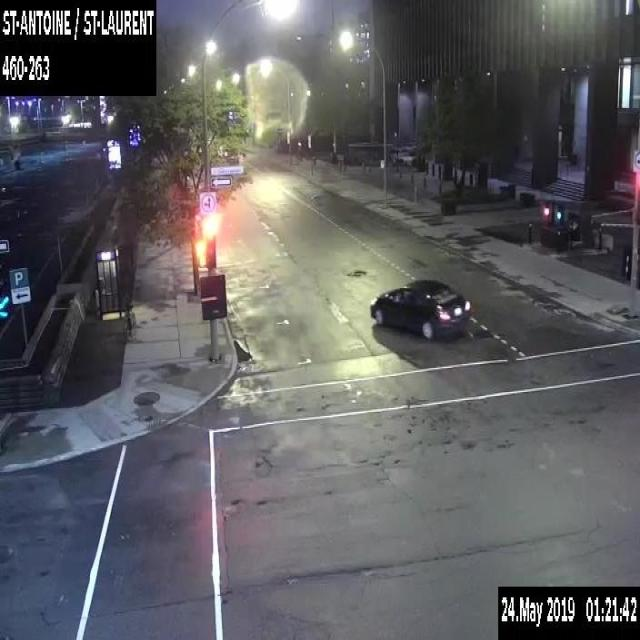vehicle: (368, 275, 472, 340)
